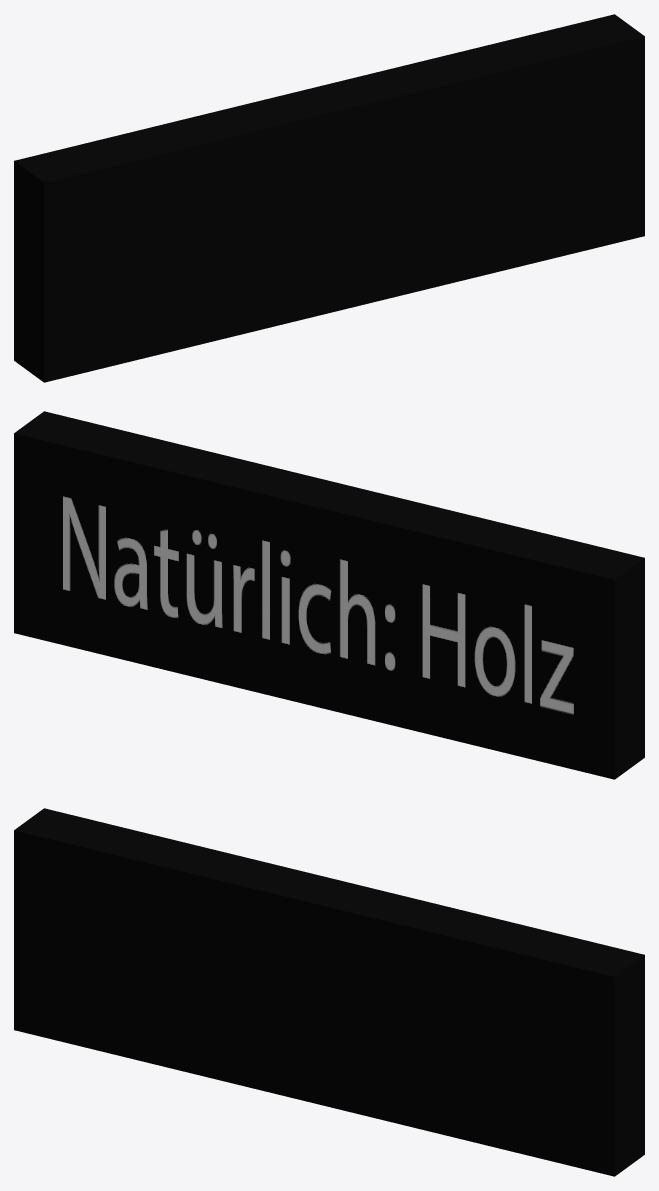
Rendered from info_button_4.gltf.
The picture shows the model from 3 angles, top to bottom: view 1: azimuth 30°, elevation 25°; view 2: azimuth 150°, elevation 25°; view 3: azimuth 330°, elevation 25°; orthographic projection.
Visible parts, largest first — view 1: Cube; view 2: Cube; view 3: Cube.
Part boxes in pixels (x1,y1,x2,y2): Cube: [14, 14, 644, 382]; Cube: [14, 411, 644, 779]; Cube: [14, 808, 644, 1176].
Bounding box in the file's own units: 0.206 × 0.0655 × 0.0179.
Materials: 1 (1 with a texture image).
